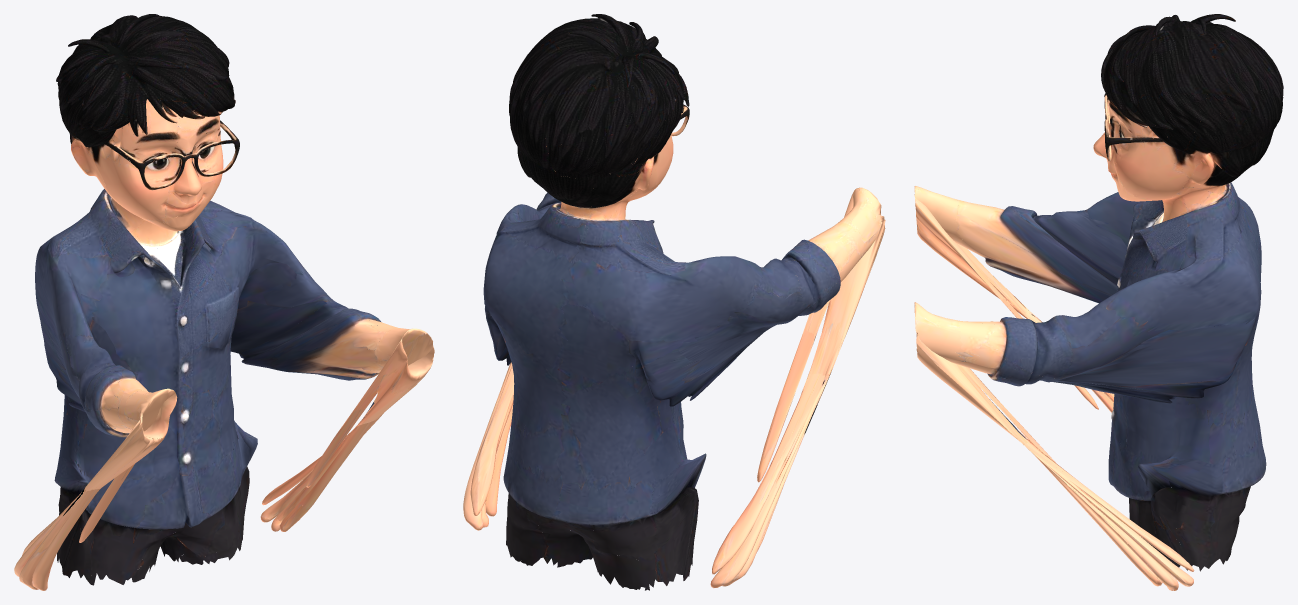
The model's file is teacher-6-3.glb.
The picture shows the model from 3 angles, left to right: view 1: azimuth 30°, elevation 25°; view 2: azimuth 150°, elevation 25°; view 3: azimuth 270°, elevation 25°; orthographic projection. The views are drawn at different scales.
Visible parts, largest first — view 1: teacher-6-3-운전자; view 2: teacher-6-3-운전자; view 3: teacher-6-3-운전자.
Boxes of the visible parts, <box> form: teacher-6-3-운전자: <box>14,14,434,590</box>; teacher-6-3-운전자: <box>463,14,885,590</box>; teacher-6-3-운전자: <box>914,14,1283,590</box>.
Bounding box in the file's own units: 0.6584 × 1.12 × 0.7324.
Materials: 1 (1 with a texture image).
